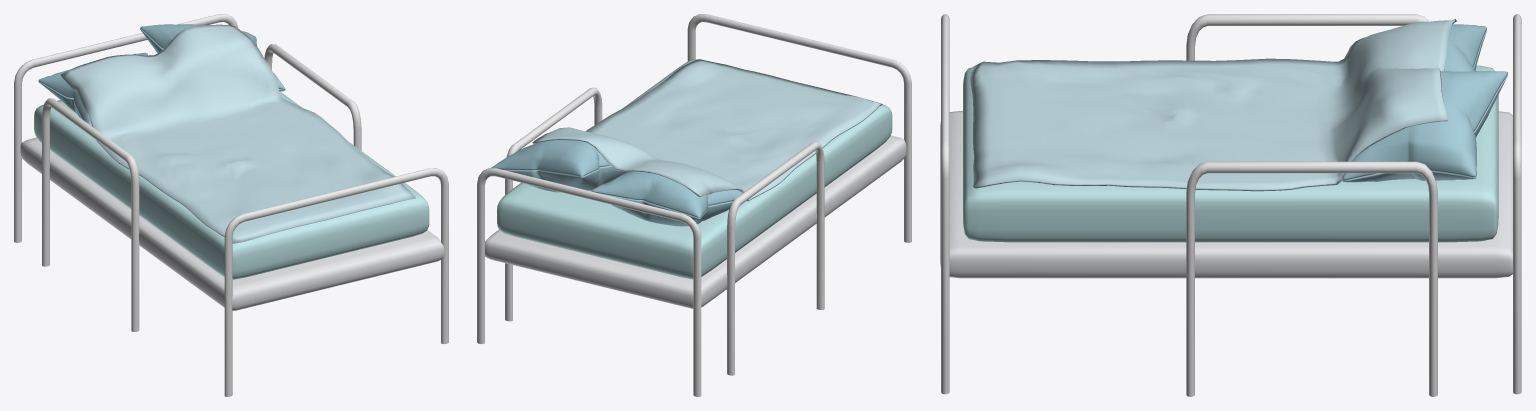
File: maca melhorada.fbx
3 renders of one model, left to right at view 1: azimuth 30°, elevation 25°; view 2: azimuth 150°, elevation 25°; view 3: azimuth 270°, elevation 25°, orthographic. The views are drawn at different scales.
Visible parts, largest first — view 1: Plane.002, maca, colchao, travesseiro.001, travesseiro; view 2: maca, Plane.002, colchao, travesseiro.001, travesseiro; view 3: Plane.002, maca, colchao, travesseiro.001, travesseiro.
Boxes of the visible parts, left/top/right/bottom form: Plane.002: left=60, top=24, right=415, bottom=243; maca: left=14, top=14, right=448, bottom=396; colchao: left=34, top=91, right=429, bottom=279; travesseiro.001: left=140, top=24, right=285, bottom=91; travesseiro: left=38, top=52, right=147, bottom=125; maca: left=477, top=14, right=911, bottom=396; Plane.002: left=532, top=59, right=882, bottom=201; colchao: left=497, top=59, right=892, bottom=279; travesseiro.001: left=491, top=139, right=627, bottom=192; travesseiro: left=591, top=171, right=747, bottom=226; Plane.002: left=970, top=19, right=1456, bottom=191; maca: left=940, top=14, right=1521, bottom=396; colchao: left=963, top=65, right=1498, bottom=242; travesseiro.001: left=1342, top=71, right=1507, bottom=182; travesseiro: left=1444, top=24, right=1486, bottom=71.
Bounding box in the file's own units: 131 × 110 × 212.
